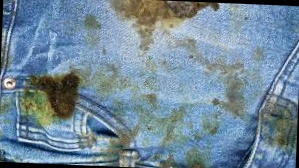earth: (124, 0, 211, 26), (37, 71, 81, 118), (222, 70, 247, 116), (263, 111, 294, 148), (113, 134, 133, 149)
